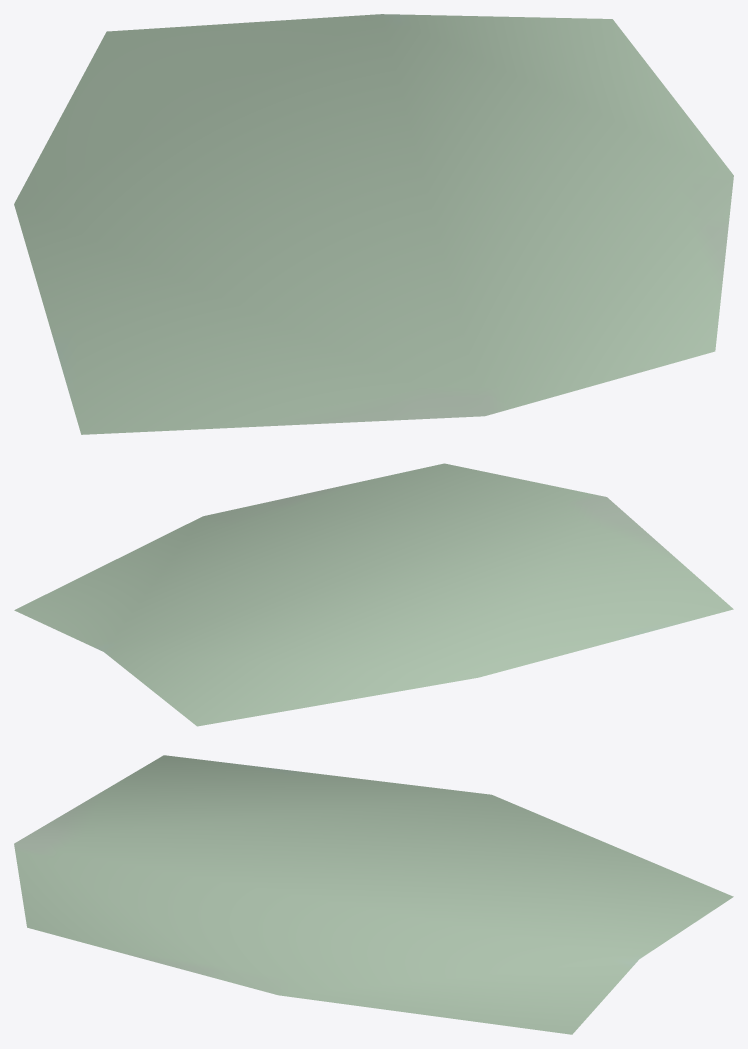
File: TROLLHOLE02_HOLECAP145.fbx
The picture shows the model from 3 angles, top to bottom: view 1: azimuth 30°, elevation 25°; view 2: azimuth 150°, elevation 25°; view 3: azimuth 270°, elevation 25°; orthographic projection. The views are drawn at different scales.
Visible parts, largest first — view 1: TROLLHOLE02_HOLECAP145; view 2: TROLLHOLE02_HOLECAP145; view 3: TROLLHOLE02_HOLECAP145.
Part boxes in pixels (bbox=[...]): TROLLHOLE02_HOLECAP145: bbox=[14, 14, 733, 434]; TROLLHOLE02_HOLECAP145: bbox=[14, 463, 733, 726]; TROLLHOLE02_HOLECAP145: bbox=[14, 755, 733, 1034].
Bounding box in the file's own units: 34514 × 955 × 36803.
1 material, 1 textured.
